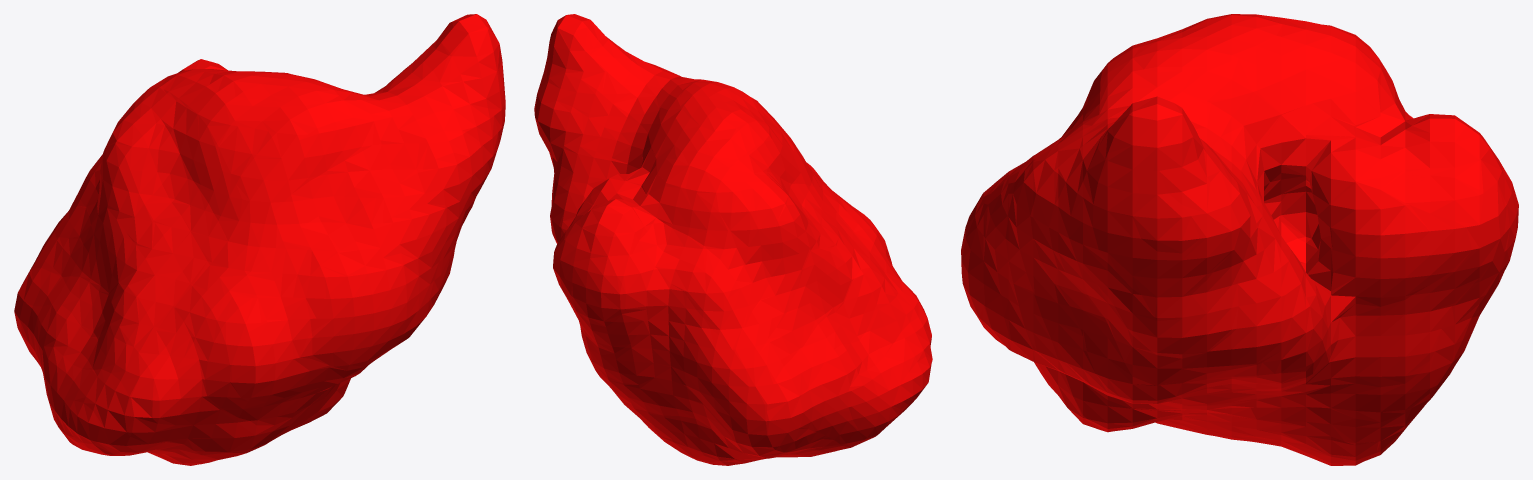
File: hpt_coarse.dae
The picture shows the model from 3 angles, left to right: view 1: azimuth 30°, elevation 25°; view 2: azimuth 150°, elevation 25°; view 3: azimuth 270°, elevation 25°; orthographic projection. The views are drawn at different scales.
Visible parts, largest first — view 1: hpt; view 2: hpt; view 3: hpt.
Boxes of the visible parts, x1,y1,x2,y2 form: hpt: (14,14,505,465); hpt: (534,14,932,465); hpt: (961,14,1518,465).
Bounding box in the file's own units: 50.61 × 44.67 × 44.89.
